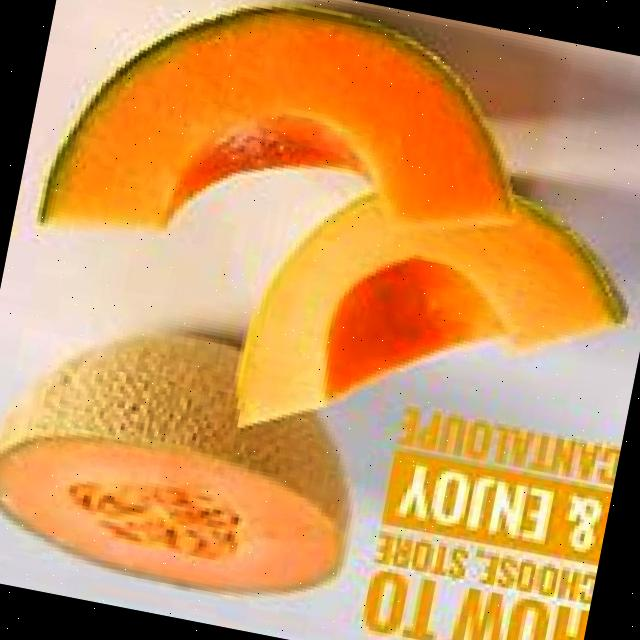Hami Melon: (39, 0, 544, 311), (227, 154, 640, 498), (0, 307, 388, 620)
